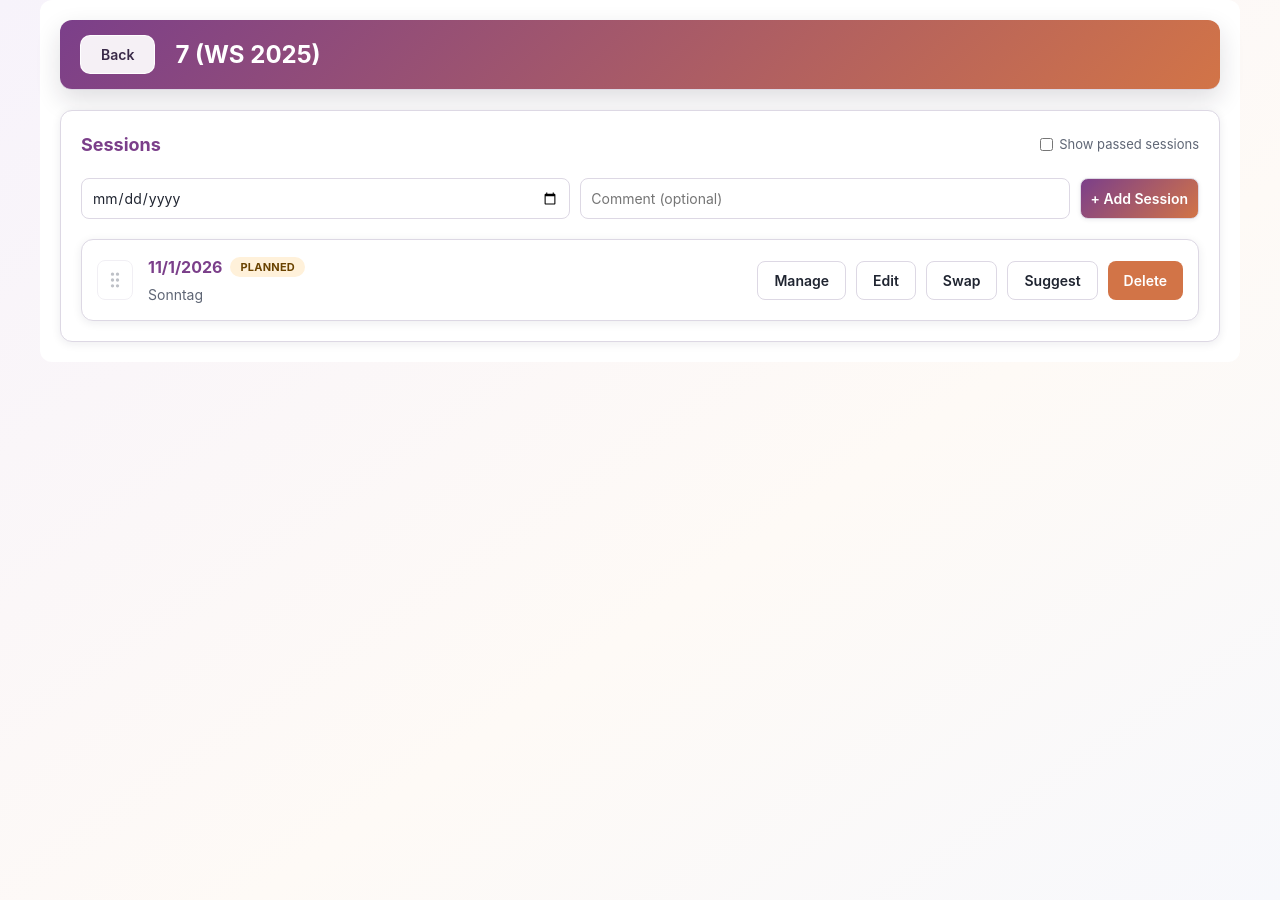
CourseDetail › opens choreography card overlay when clicking a session choreography
Expected: the heading "7 (WS 2025)" is shown, x1=175 y1=40 x2=321 y2=68
Click the button "Manage". click: (802, 280)
box: x1=757 y1=260 x2=846 y2=300
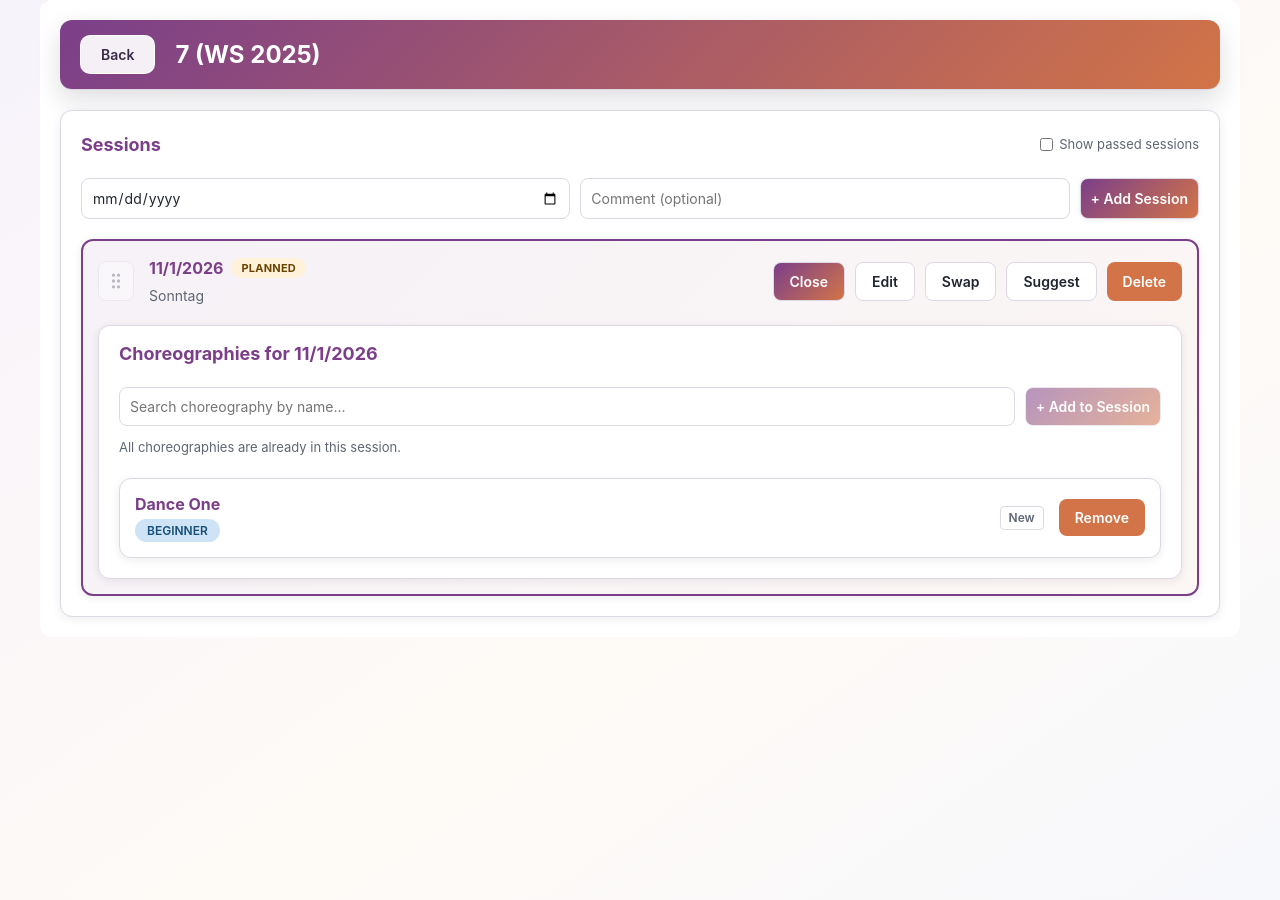
Click the button with aria-label "Open choreography card for Dance One". click: (178, 504)
box: x1=135 y1=494 x2=984 y2=542
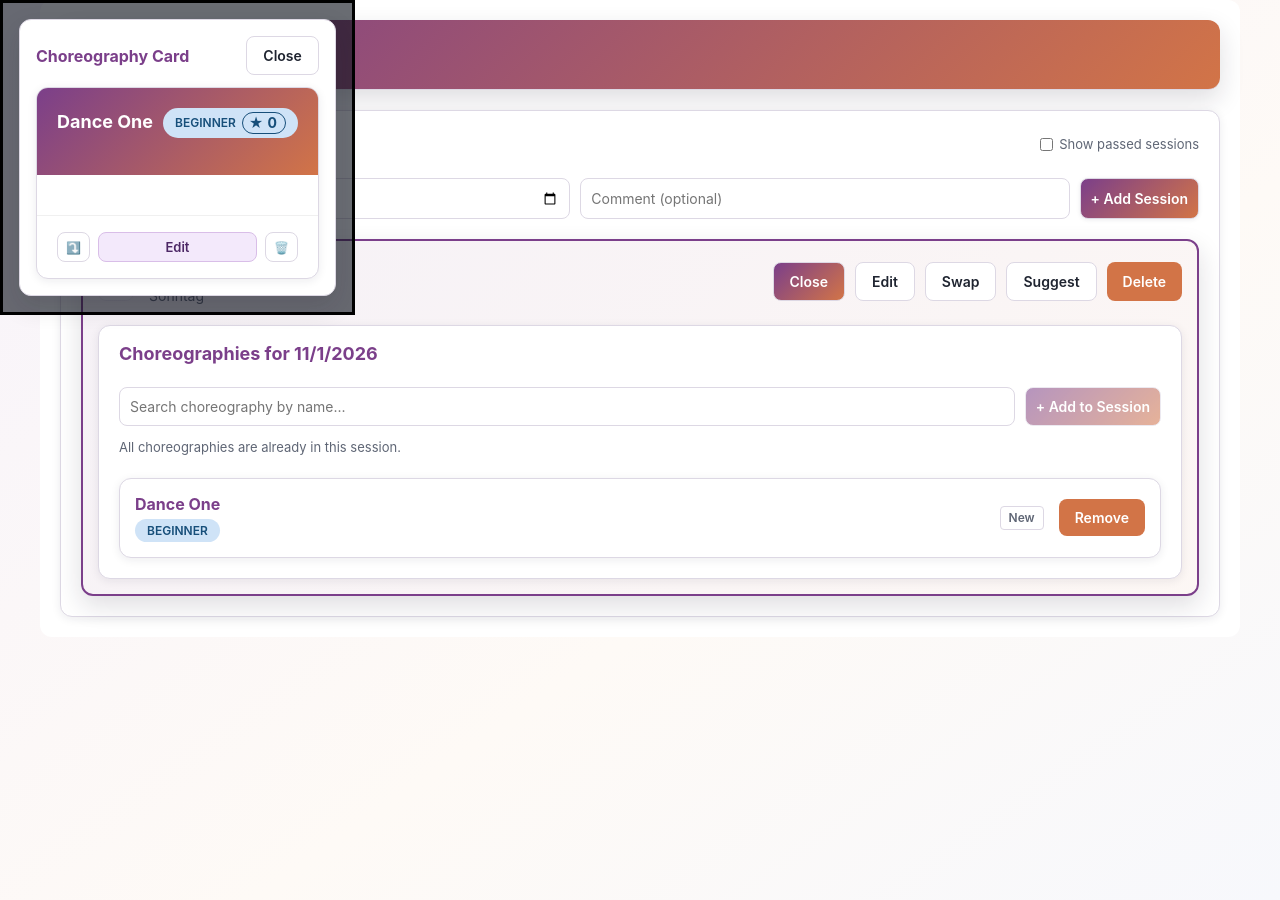
Result: the dialog named "Choreography details: Dance One" is shown at x1=0 y1=0 x2=355 y2=315
Result: the heading "Dance One" below "Choreography Card" is shown at x1=57 y1=108 x2=153 y2=135
